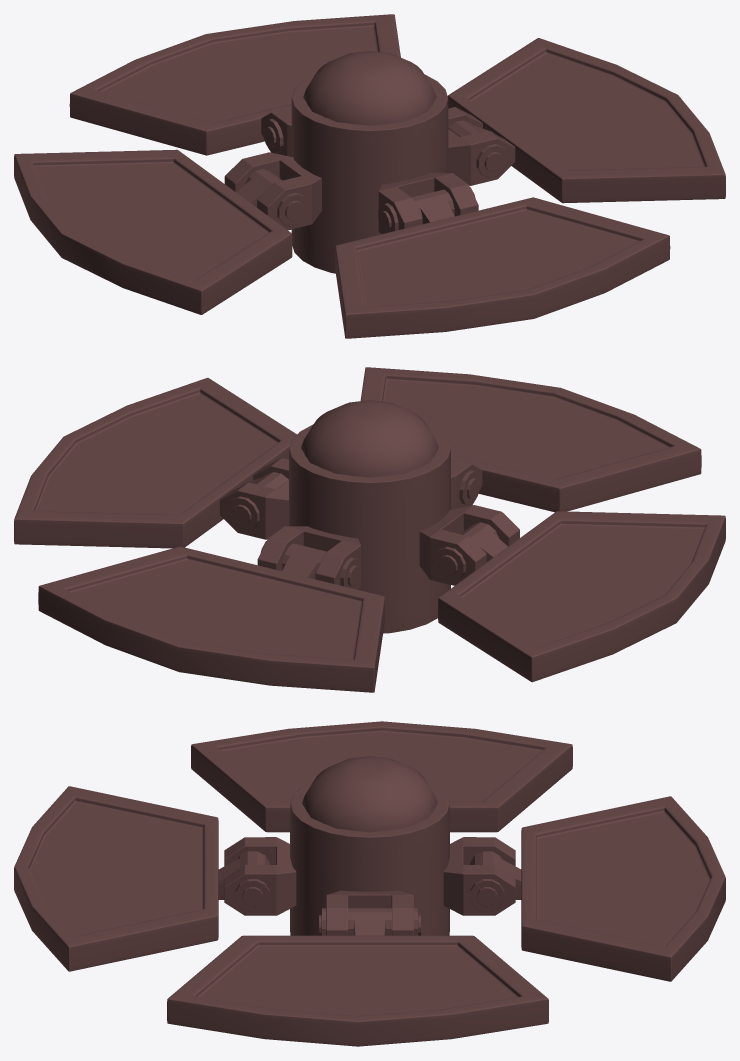
File: SolarTop.fbx
3 renders of one model, top to bottom at view 1: azimuth 30°, elevation 25°; view 2: azimuth 150°, elevation 25°; view 3: azimuth 270°, elevation 25°, orthographic. The views are drawn at different scales.
Visible parts, largest first — view 1: SolarPanel04, SolarPanel07, SolarPanel05, SolarPanel06, TurbineBody, TopLight, Frame10, Frame11, Frame7, Joint10, Joint11, Joint7 (+2 smaller); view 2: SolarPanel06, SolarPanel07, SolarPanel05, SolarPanel04, TurbineBody, TopLight, Frame10, Frame9, Frame7, Joint10, Joint9, Joint7 (+2 smaller); view 3: SolarPanel05, SolarPanel04, SolarPanel06, SolarPanel07, TurbineBody, TopLight, Frame11, Frame9, Frame7, Joint11, Joint9, Joint7.
Part boxes in pixels (bbox=[...]): SolarPanel04: bbox=[335, 197, 670, 338]; SolarPanel07: bbox=[14, 149, 292, 314]; SolarPanel05: bbox=[447, 38, 725, 203]; SolarPanel06: bbox=[69, 14, 400, 155]; TurbineBody: bbox=[291, 74, 448, 273]; TopLight: bbox=[303, 51, 436, 125]; Frame10: bbox=[224, 152, 321, 230]; Frame11: bbox=[378, 172, 478, 234]; Frame7: bbox=[448, 107, 515, 185]; Joint10: bbox=[236, 169, 308, 226]; Joint11: bbox=[378, 187, 475, 233]; Joint7: bbox=[448, 120, 507, 177]; SolarPanel06: bbox=[38, 546, 384, 692]; SolarPanel07: bbox=[438, 511, 725, 682]; SolarPanel05: bbox=[14, 377, 296, 548]; SolarPanel04: bbox=[360, 367, 701, 512]; TurbineBody: bbox=[289, 424, 450, 633]; TopLight: bbox=[301, 400, 438, 477]; Frame10: bbox=[419, 505, 519, 585]; Frame9: bbox=[257, 526, 360, 589]; Frame7: bbox=[220, 458, 288, 539]; Joint10: bbox=[433, 522, 507, 581]; Joint9: bbox=[260, 541, 361, 588]; Joint7: bbox=[227, 472, 288, 530]; SolarPanel05: bbox=[167, 935, 548, 1046]; SolarPanel04: bbox=[14, 786, 218, 971]; SolarPanel06: bbox=[521, 796, 725, 981]; SolarPanel07: bbox=[191, 721, 572, 832]; TurbineBody: bbox=[290, 780, 449, 935]; TopLight: bbox=[302, 756, 437, 832]; Frame11: bbox=[224, 837, 296, 915]; Frame9: bbox=[443, 837, 515, 915]; Frame7: bbox=[326, 890, 413, 935]; Joint11: bbox=[218, 851, 269, 911]; Joint9: bbox=[470, 851, 521, 911]; Joint7: bbox=[319, 908, 420, 935].
Size of the model in its own units: 23.74 by 6.87 by 23.74.
